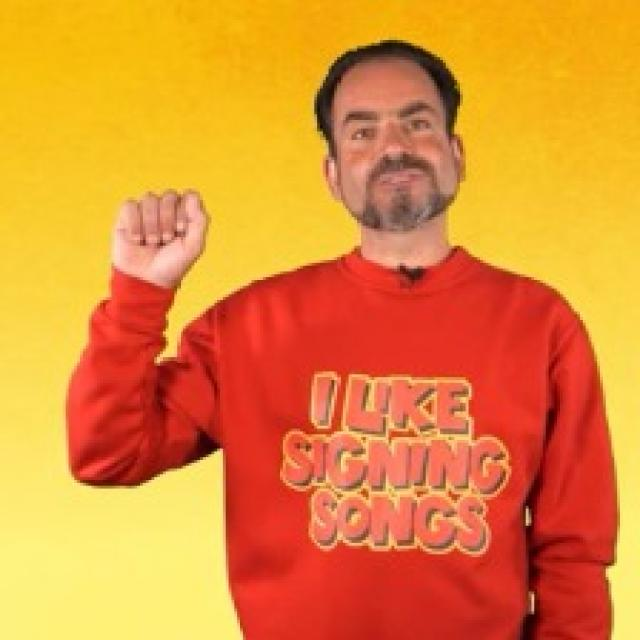yes: (105, 185, 215, 287)
